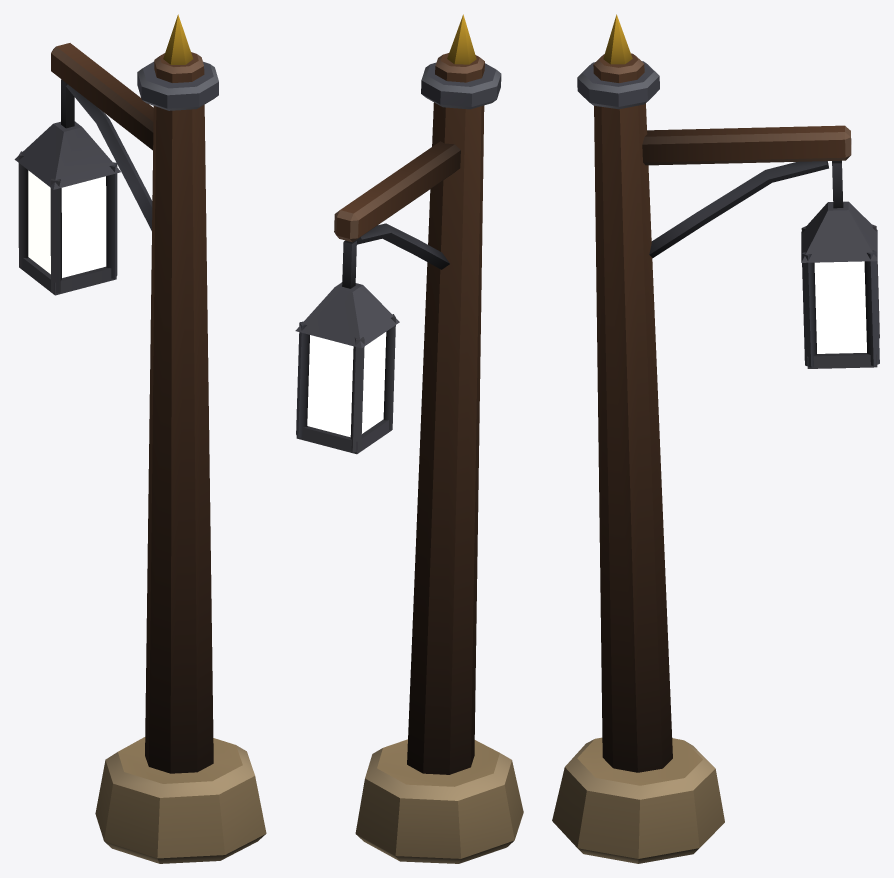
Rendered from HD_LanternPost.glb.
3 renders of one model, left to right at view 1: azimuth 30°, elevation 25°; view 2: azimuth 150°, elevation 25°; view 3: azimuth 270°, elevation 25°, orthographic. The views are drawn at different scales.
Visible parts, largest first — view 1: HD_LanternPost_2_Wood, HD_LanternPost_1_Sandstone, HD_LanternPost_3_Metal, HD_LanternPost_4_Neon; view 2: HD_LanternPost_2_Wood, HD_LanternPost_1_Sandstone, HD_LanternPost_3_Metal, HD_LanternPost_4_Neon; view 3: HD_LanternPost_2_Wood, HD_LanternPost_1_Sandstone, HD_LanternPost_3_Metal, HD_LanternPost_4_Neon.
Part boxes in pixels (x1,y1,x2,y2): HD_LanternPost_2_Wood: [51, 43, 213, 773]; HD_LanternPost_1_Sandstone: [95, 737, 266, 863]; HD_LanternPost_3_Metal: [14, 14, 218, 295]; HD_LanternPost_4_Neon: [28, 170, 106, 277]; HD_LanternPost_2_Wood: [334, 53, 484, 774]; HD_LanternPost_1_Sandstone: [355, 739, 523, 863]; HD_LanternPost_3_Metal: [295, 14, 501, 454]; HD_LanternPost_4_Neon: [307, 332, 386, 437]; HD_LanternPost_2_Wood: [593, 53, 851, 772]; HD_LanternPost_1_Sandstone: [552, 737, 724, 863]; HD_LanternPost_3_Metal: [577, 14, 879, 368]; HD_LanternPost_4_Neon: [814, 261, 866, 353].
Bounding box in the file's own units: 1.76 × 9.11 × 3.34.
